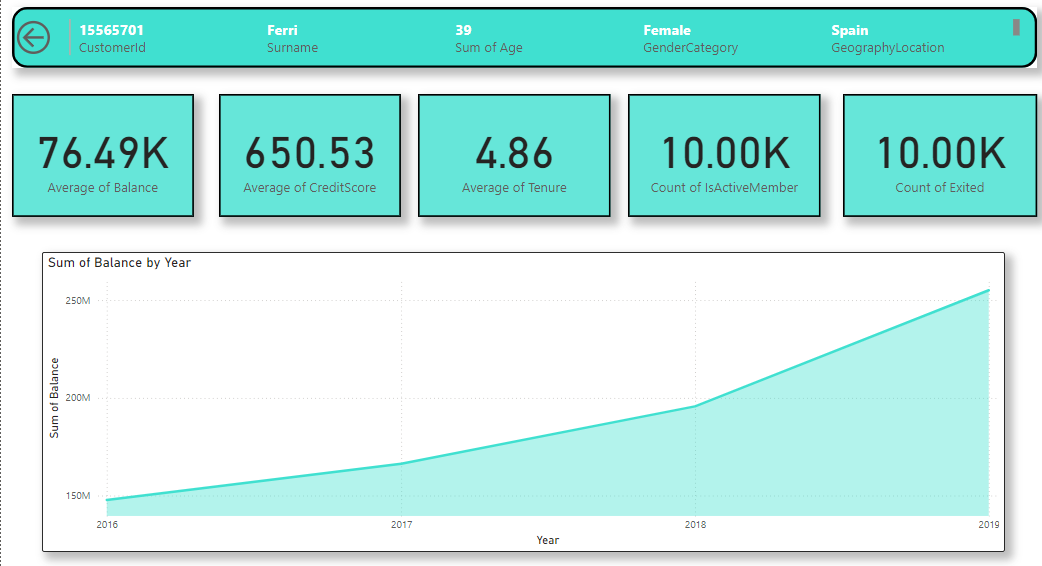

Layout of this report page (visuals, bound fields, positions):
{"tool":"powerbi","page":{"name":"Customer Detail","canvas":[1280,720],"ordinal":5},"visuals":[{"type":"shape","box":[13.8,20.6,1251.1,74.3],"z":0},{"type":"actionButton","box":[13.8,20.6,52.3,74.3],"z":1000},{"type":"multiRowCard","fields":{"Values":["analytics customer_dim.CustomerId","analytics customer_dim.Surname","analytics customer_dim.Age","analytics customer_dim.GenderCategory","analytics customer_dim.GeographyLocation"]},"box":[78.5,30.3,1169.9,55.1],"z":2000},{"type":"card","fields":{"Values":["analytics account_fact.Balance","select"]},"box":[13.8,126.6,221.6,150],"z":3000},{"type":"card","fields":{"Values":["analytics account_fact.CreditScore"]},"box":[265.6,126.6,221.6,150],"z":4000},{"type":"card","fields":{"Values":["analytics account_fact.Tenure"]},"box":[509.2,126.6,235.4,150],"z":5000},{"type":"card","fields":{"Values":["analytics account_fact.IsActiveMember"]},"box":[765.2,126.6,235.4,150],"z":7000},{"type":"card","fields":{"Values":["analytics account_fact.Exited"]},"box":[1028.1,126.6,236.7,150],"z":8000},{"type":"areaChart","fields":{"Category":["analytics calendar_dim.date.Variation.Date Hierarchy.Year","analytics calendar_dim.date.Variation.Date Hierarchy.Quarter","analytics calendar_dim.date.Variation.Date Hierarchy.Month","analytics calendar_dim.date.Variation.Date Hierarchy.Day"],"Y":["analytics account_fact.Balance"]},"box":[49.5,319.3,1175.4,366.1],"z":9000}]}

Visuals, with their boxes in screenshot pixels (x1, y1, x2, y2):
shape: box=[11, 6, 1019, 66]
actionButton: box=[11, 6, 53, 66]
multiRowCard - analytics customer_dim.CustomerId x analytics customer_dim.Surname: box=[63, 14, 1005, 58]
card - analytics account_fact.Balance x select: box=[11, 91, 190, 212]
card - analytics account_fact.CreditScore: box=[214, 91, 392, 212]
card - analytics account_fact.Tenure: box=[410, 91, 600, 212]
card - analytics account_fact.IsActiveMember: box=[616, 91, 806, 212]
card - analytics account_fact.Exited: box=[828, 91, 1019, 212]
areaChart - analytics calendar_dim.date.Variation.Date Hierarchy.Year x analytics calendar_dim.date.Variation.Date Hierarchy.Quarter: box=[40, 246, 986, 541]
